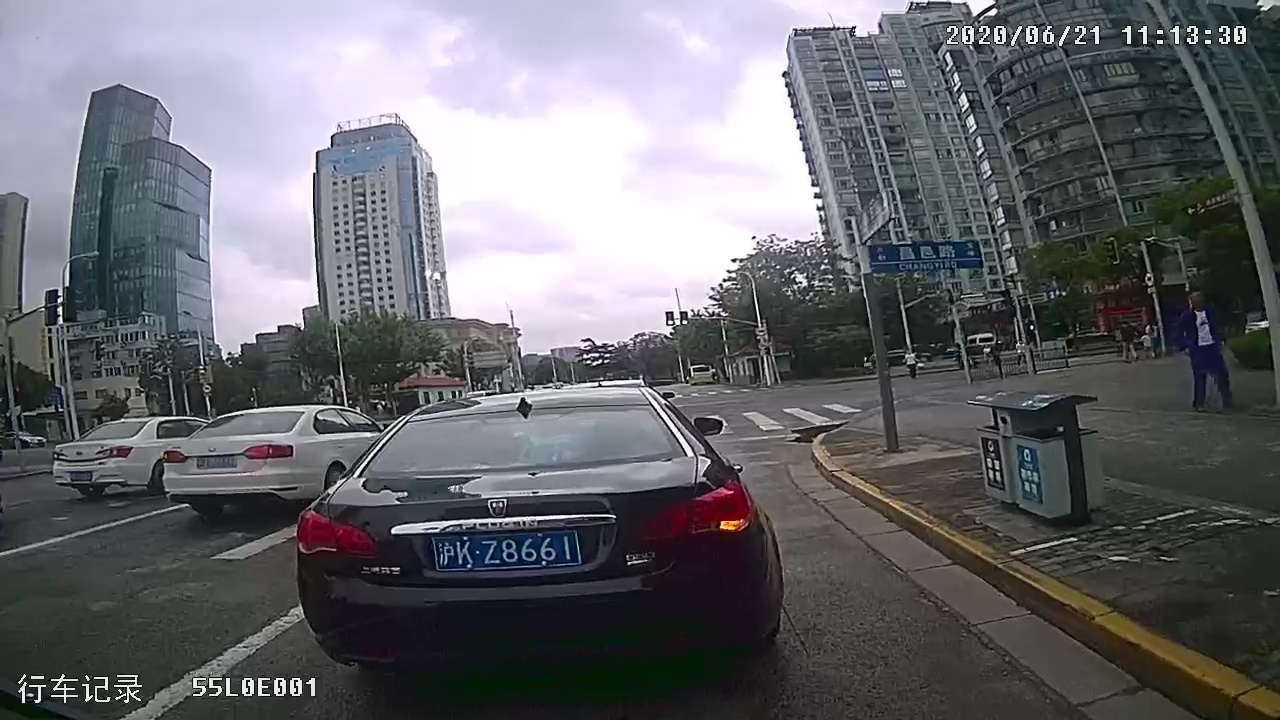crosswalk: (706, 405, 860, 430)
